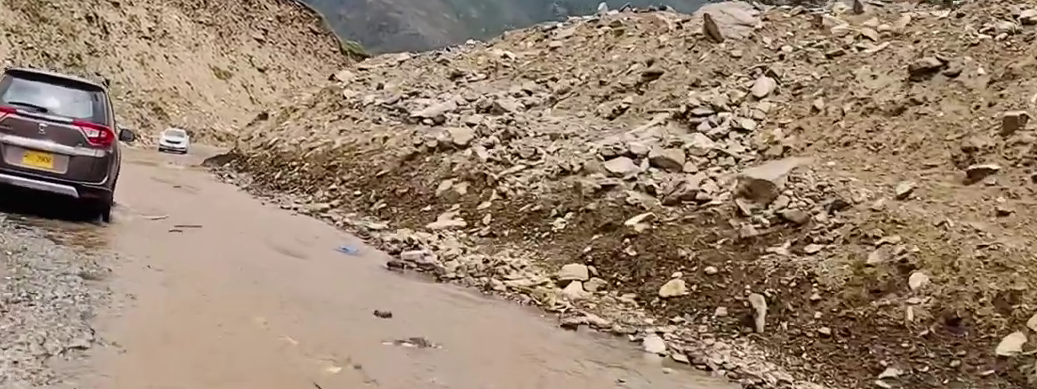unexpected: (198, 122, 585, 386)
